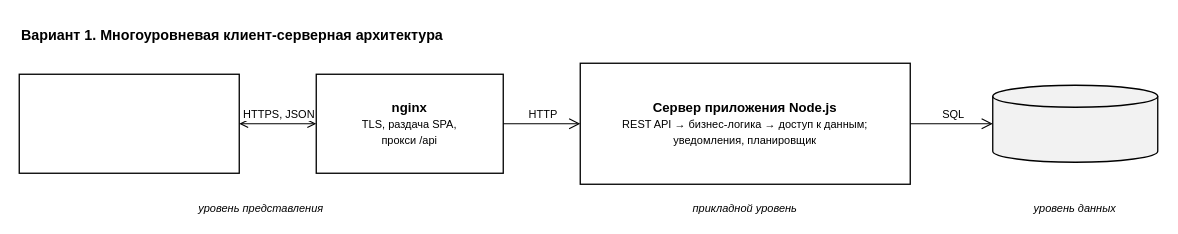
The diagram is 1178 pixels wide and 234 high, and some of its shapes have lost their labels. Each missing label, with the centre of its shape:
PostgreSQL: point 1075,123
Браузер React SPA страницы ролей, КлиентAPI: point 128,123
